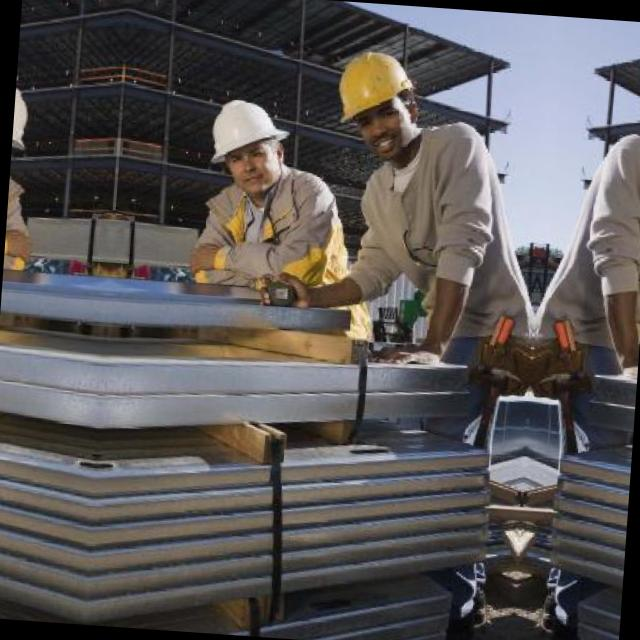helmet: (328, 49, 422, 161), (200, 96, 290, 196), (10, 82, 38, 178)
